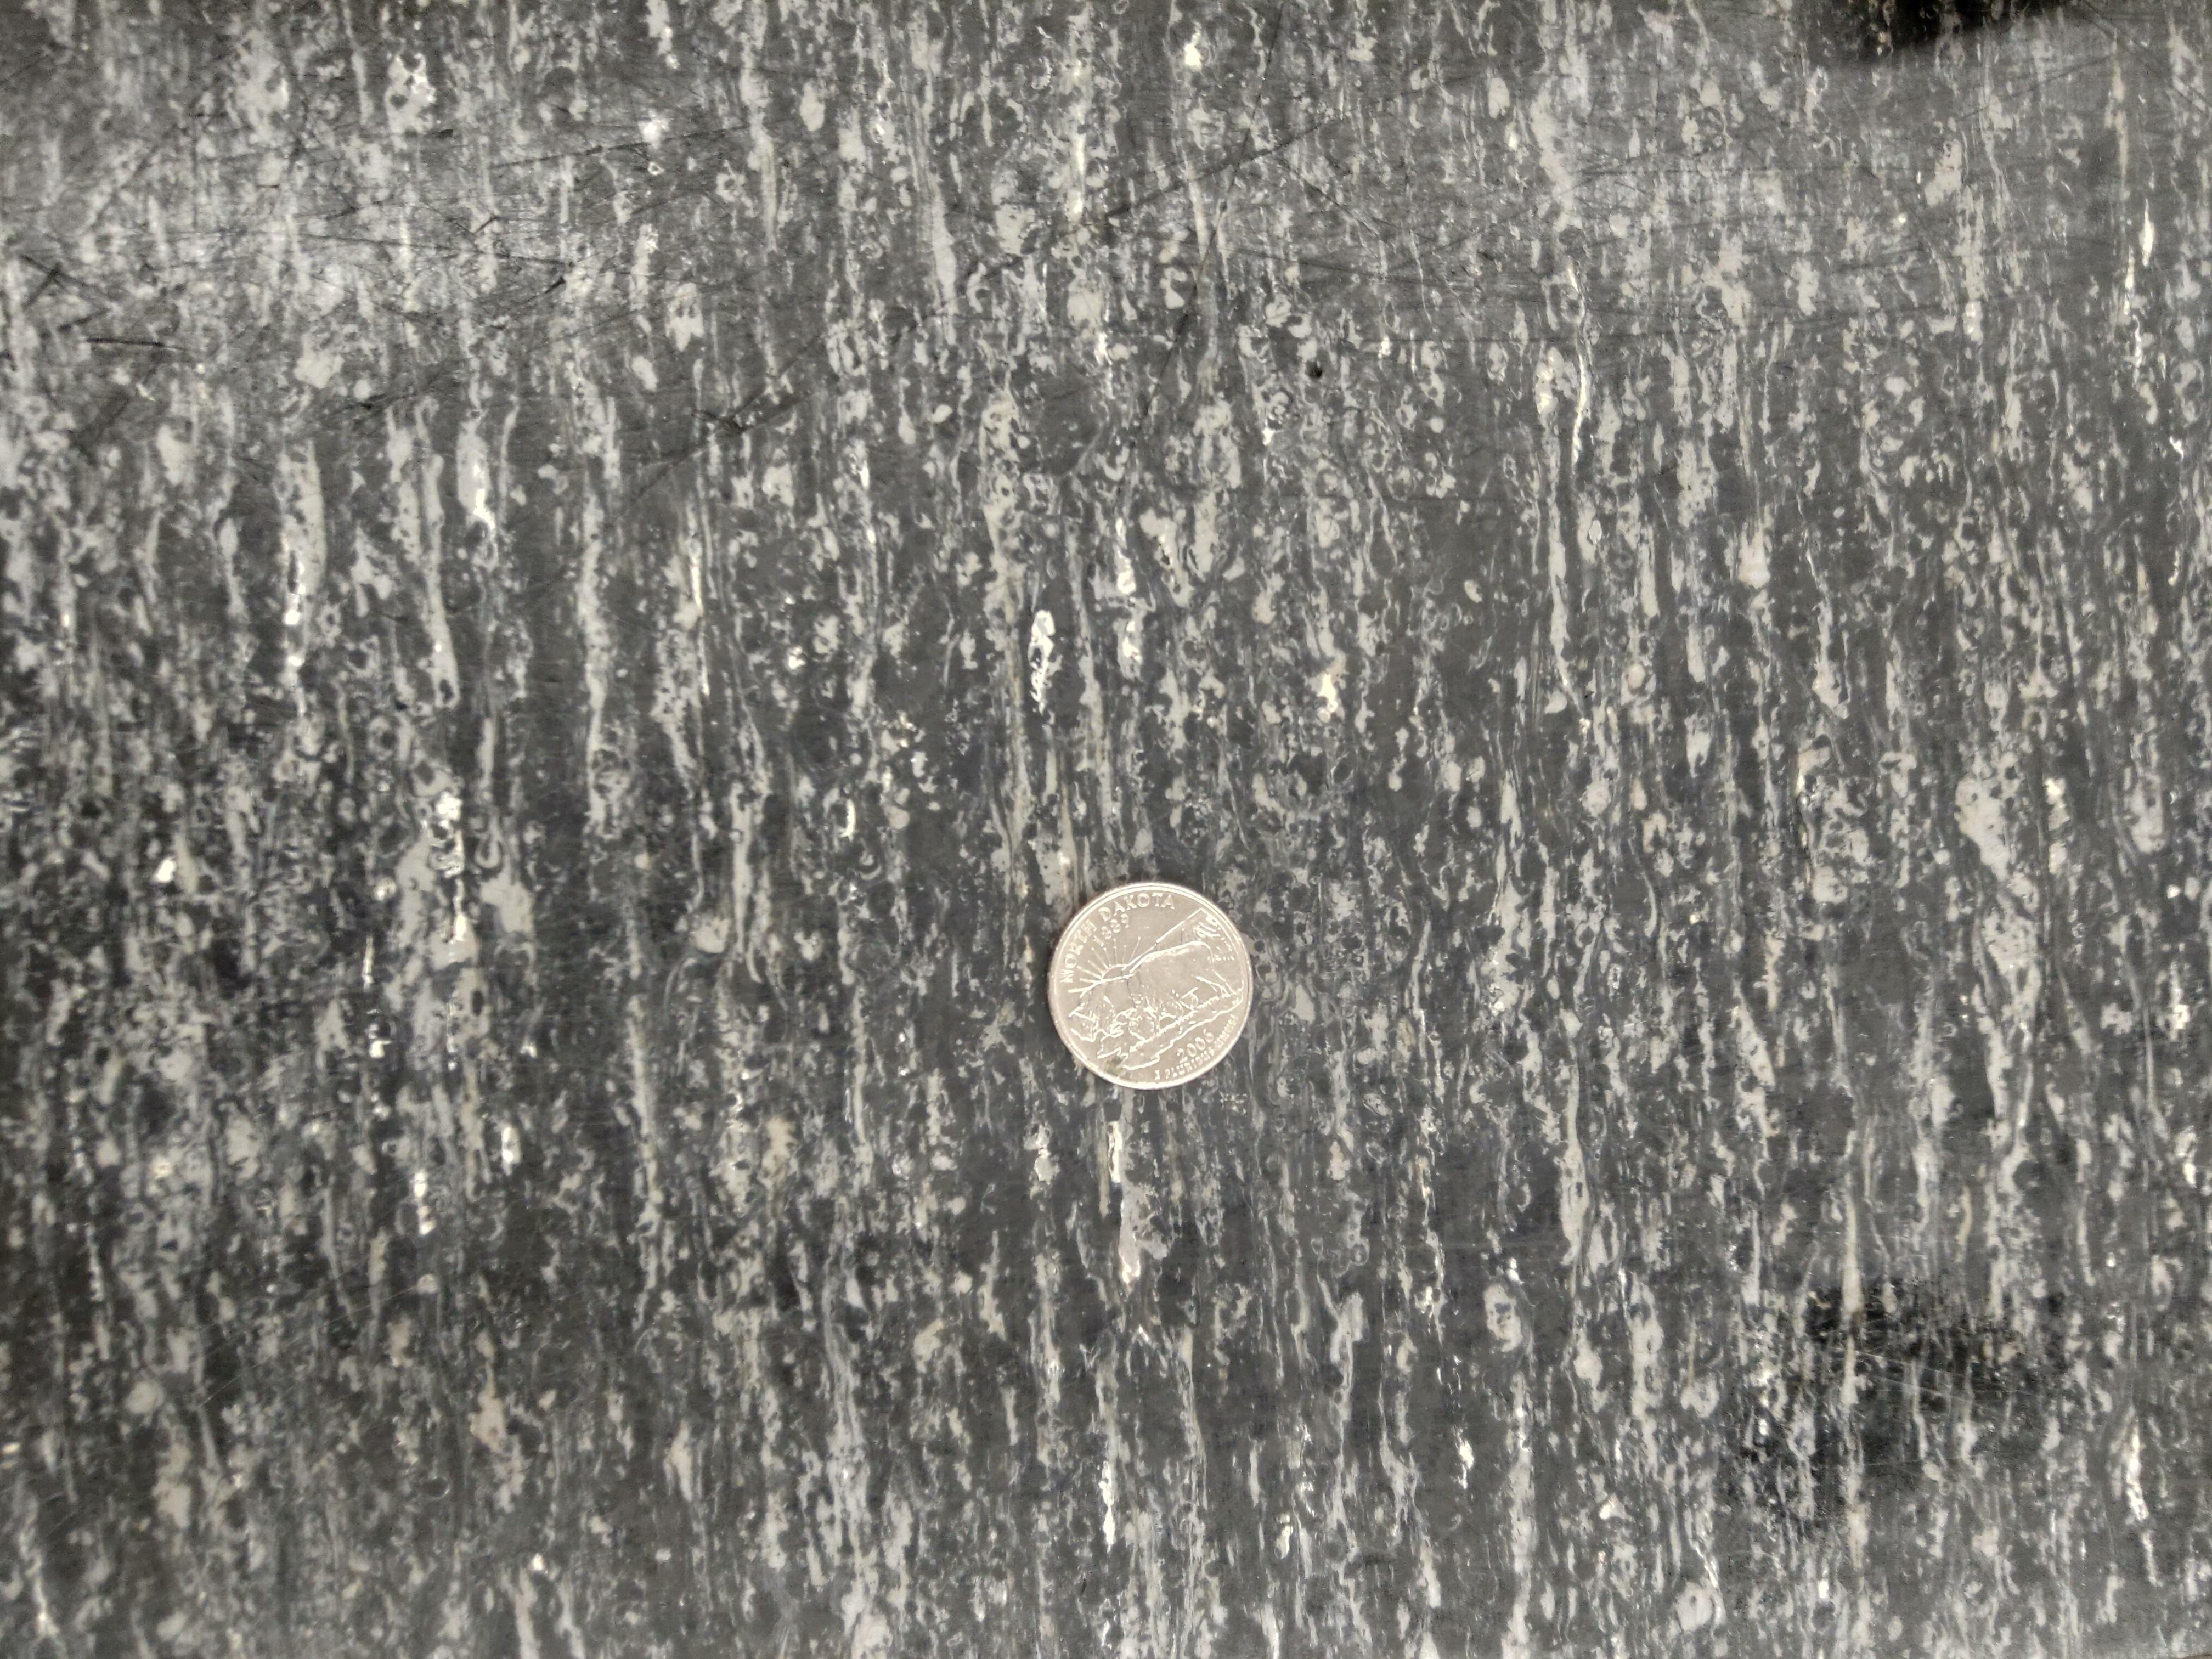Quarter: (1043, 877, 1256, 1091)
